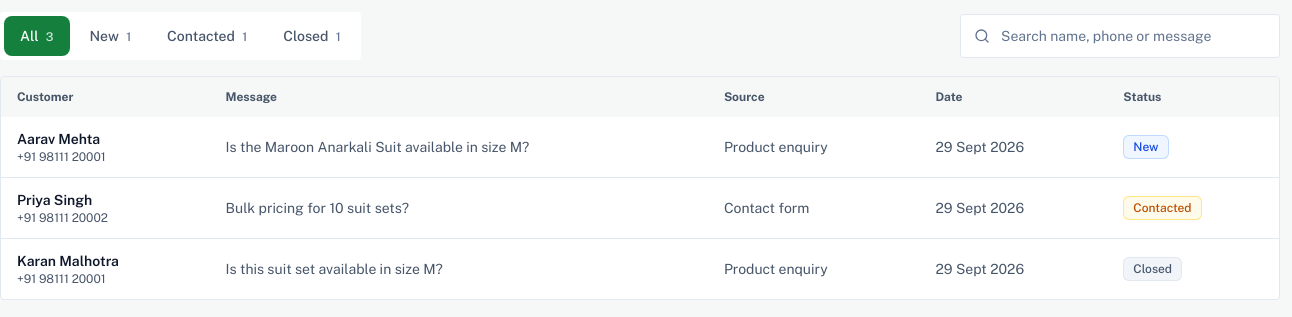
Test case: <EnquiryAdmin /> › filters by status tab
The image size is (1292, 317).
Click the tab "contacted 1" at point(207, 36), box [151,16,263,56]
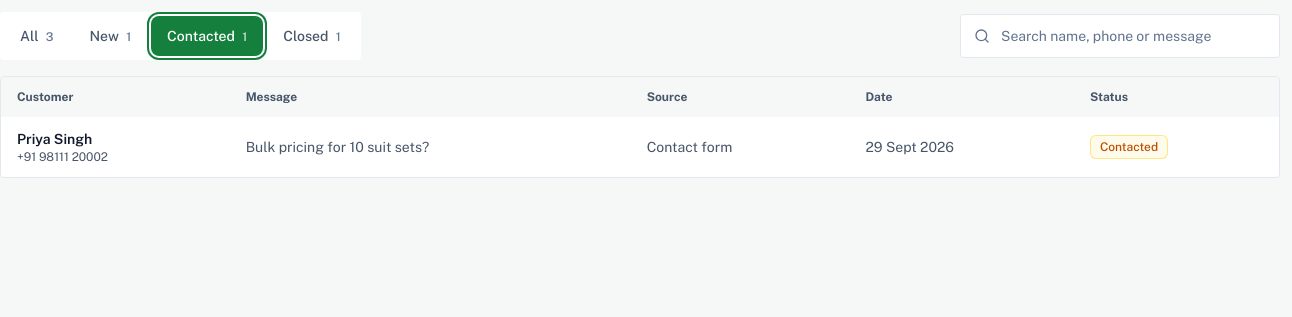
Check: the text "Priya Singh" is shown, box [17,131,92,147]
Check: the text "Aarav Mehta" is gone
